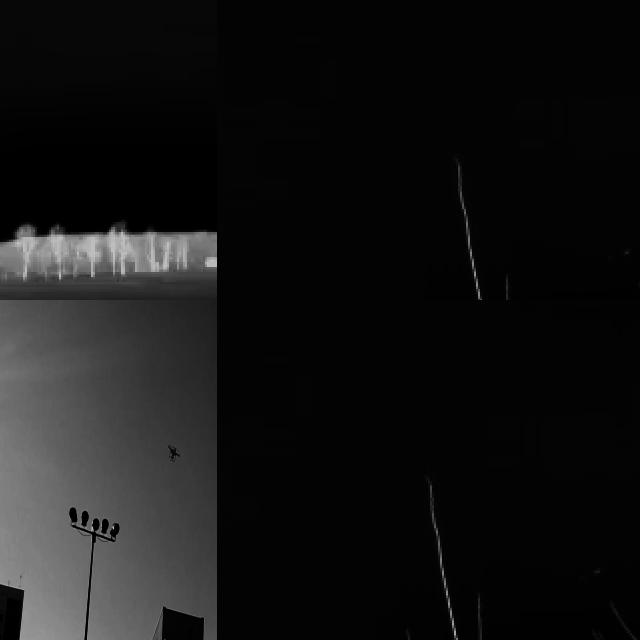0: (610, 242, 638, 272), (581, 560, 609, 590)
drone: (165, 440, 182, 466)
